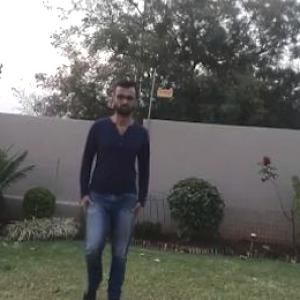follow: (82, 84, 143, 299)
